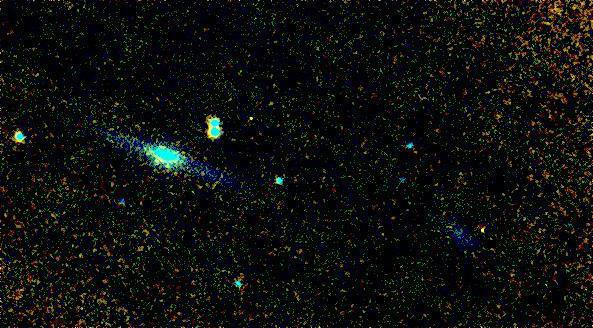star: (472, 216, 502, 246)
